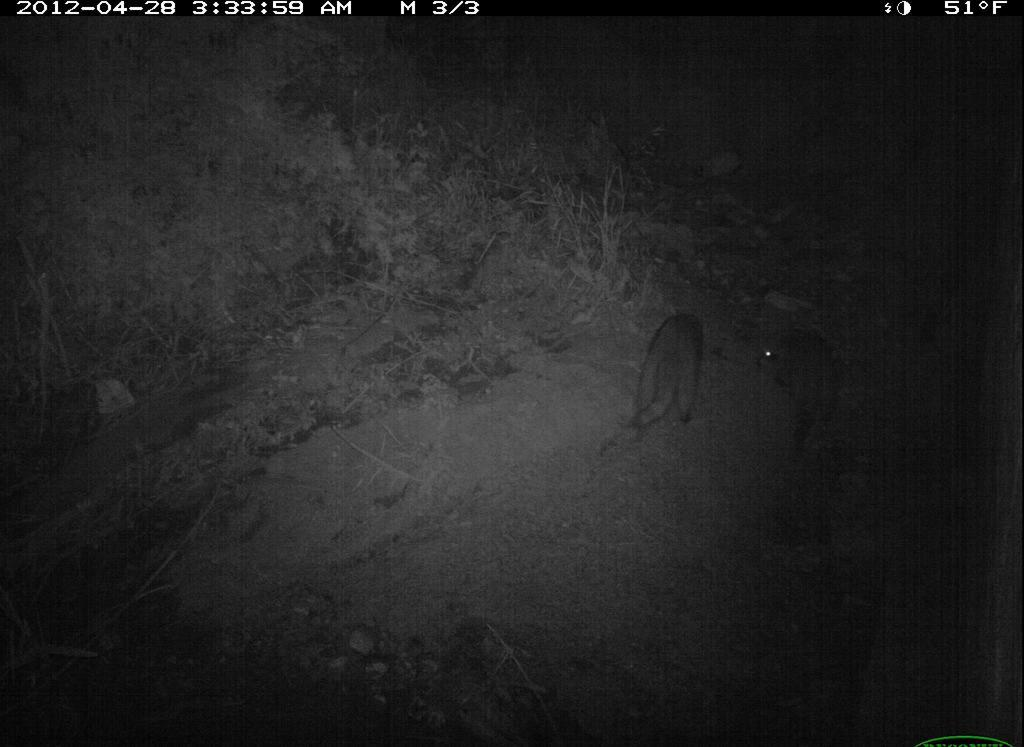raccoon: (601, 294, 730, 457), (750, 310, 838, 468)
